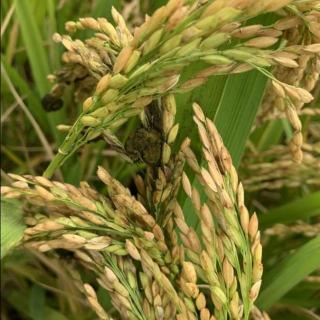Gosong-Palsu: (122, 124, 164, 168), (39, 94, 65, 115)
